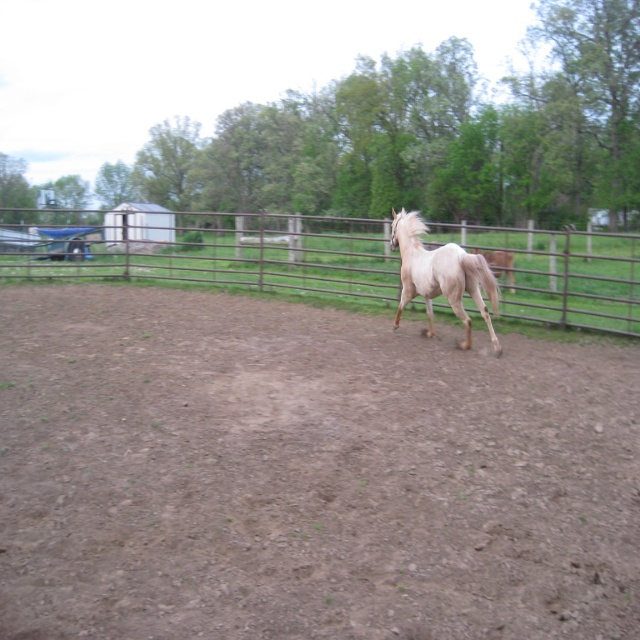Horse: (388, 207, 502, 358)
